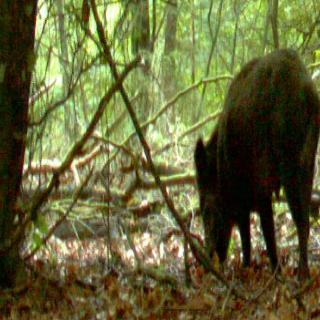Pig: (185, 51, 318, 270)
